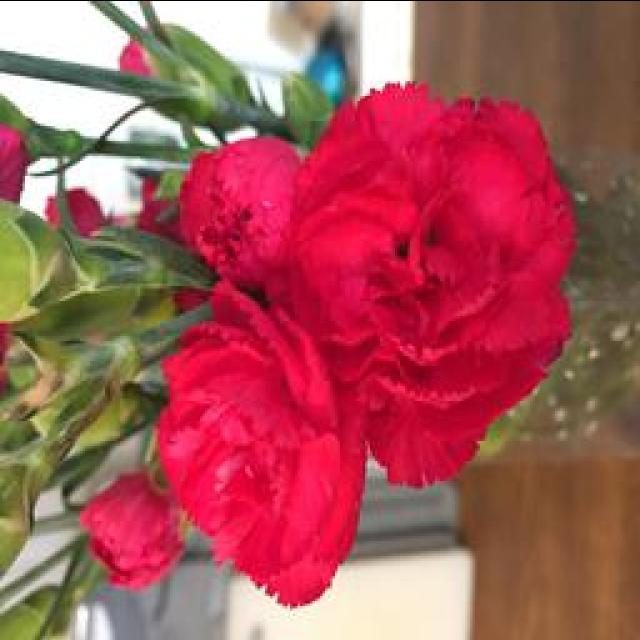carnation: (240, 41, 576, 476)
